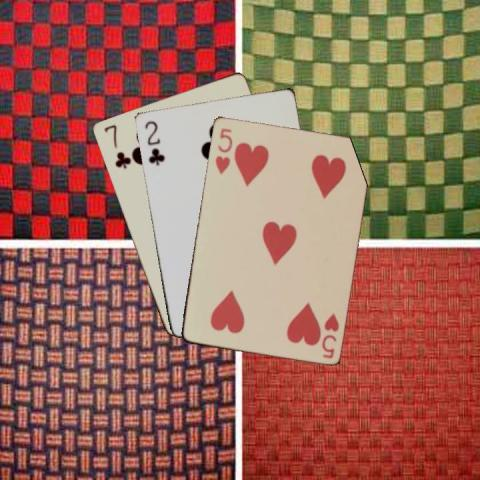2c: (141, 117, 166, 167)
5h: (318, 310, 341, 359), (212, 125, 233, 175)
7c: (101, 121, 130, 171)
